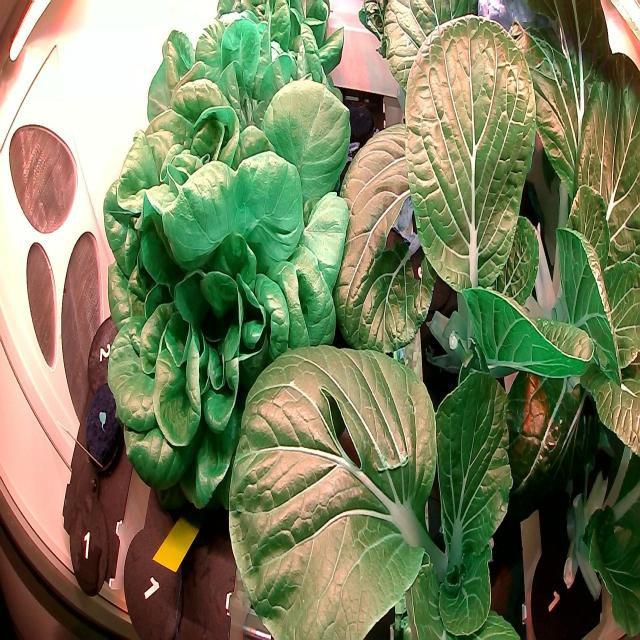Ready: (100, 153, 351, 516), (86, 17, 362, 301), (207, 0, 356, 140)
germination: (77, 381, 131, 485)
